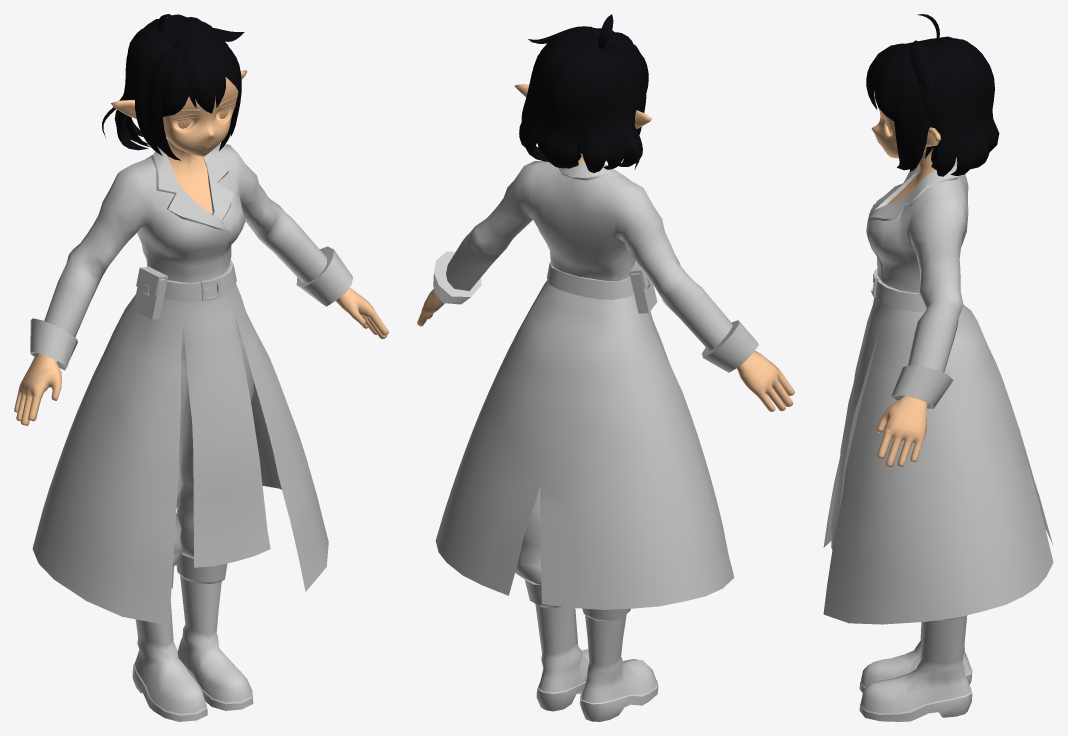
The model's file is cha3.fbx.
3 renders of one model, left to right at view 1: azimuth 30°, elevation 25°; view 2: azimuth 150°, elevation 25°; view 3: azimuth 270°, elevation 25°, orthographic.
Parts seen in each view (by area): view 1: skirt, clothes, hair, shoes, body, pants, face, belt; view 2: skirt, clothes, hair, shoes, belt, body, pants; view 3: skirt, clothes, hair, shoes, body, belt, face.
Part boxes in pixels (x1,y1,x2,y2): skirt: (32, 283, 328, 625); clothes: (30, 139, 352, 370); hair: (102, 14, 244, 160); shoes: (132, 554, 253, 721); body: (14, 142, 388, 425); pants: (172, 311, 253, 566); face: (111, 70, 247, 156); belt: (133, 259, 236, 319); skirt: (435, 280, 734, 609); clothes: (433, 161, 758, 372); hair: (519, 14, 648, 172); shoes: (525, 580, 658, 721); belt: (547, 260, 657, 313); body: (417, 153, 794, 411); pants: (515, 486, 541, 584); skirt: (823, 297, 1053, 624); clothes: (866, 159, 968, 408); hair: (866, 14, 999, 176); shoes: (859, 615, 972, 721); body: (877, 146, 935, 466); belt: (871, 269, 926, 311); face: (871, 110, 940, 158).
Size of the model in its own units: 101 by 55.56 by 180.
